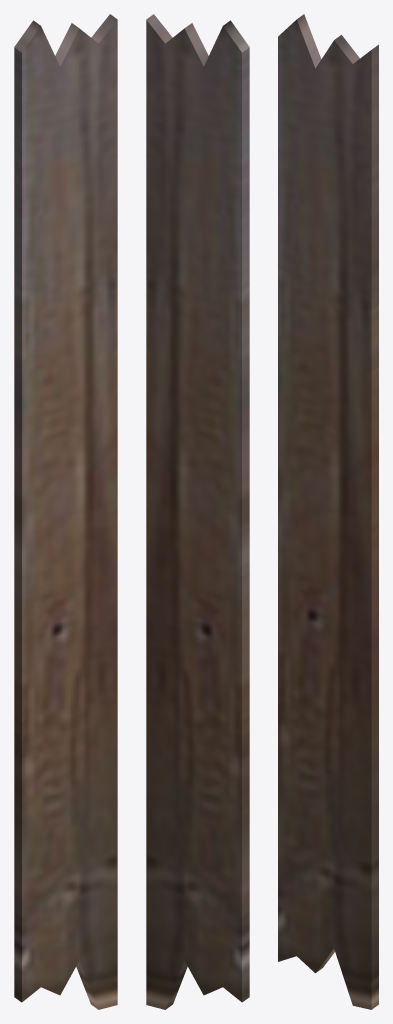
File: mokuzai_6.fbx
The picture shows the model from 3 angles, left to right: view 1: azimuth 30°, elevation 25°; view 2: azimuth 150°, elevation 25°; view 3: azimuth 330°, elevation 25°; orthographic projection. The views are drawn at different scales.
Visible parts, largest first — view 1: pCube7; view 2: pCube7; view 3: pCube7.
Boxes of the visible parts, x1,y1,x2,y2 form: pCube7: (14, 14, 117, 1009); pCube7: (146, 14, 249, 1009); pCube7: (278, 14, 378, 1009).
Size of the model in its own units: 1.49 by 14.83 by 0.2064.
